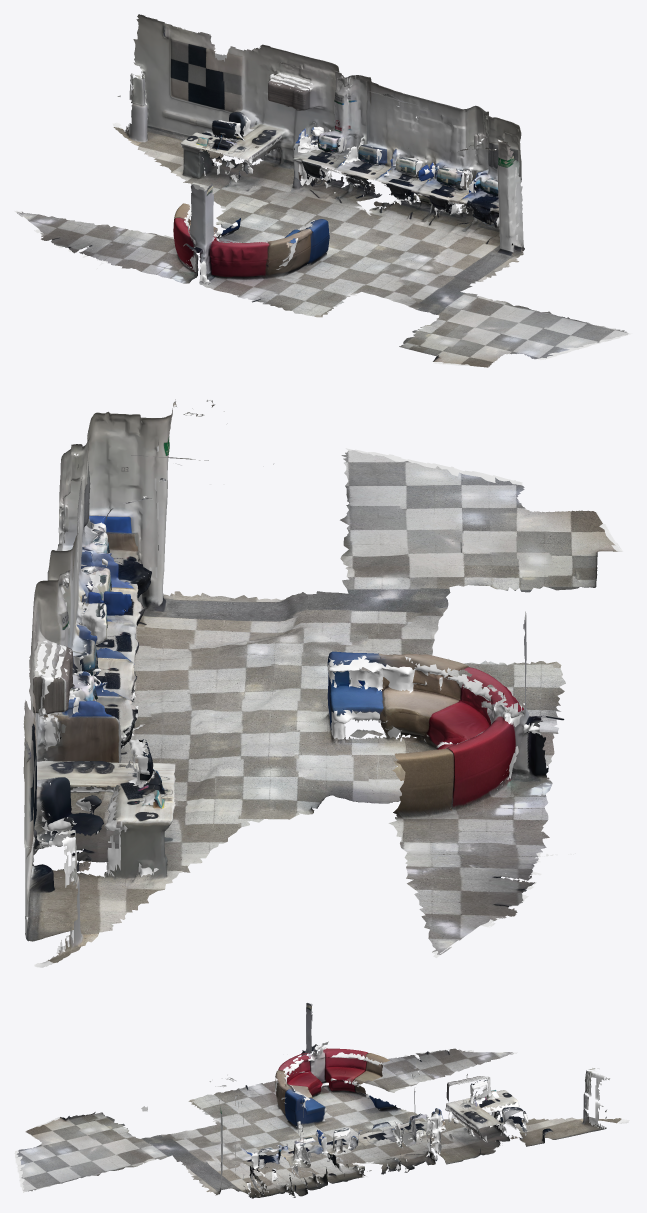
The picture shows the model from 3 angles, top to bottom: view 1: azimuth 30°, elevation 25°; view 2: azimuth 150°, elevation 25°; view 3: azimuth 270°, elevation 25°; orthographic projection. The views are drawn at different scales.
Visible parts, largest first — view 1: 7, 9, 5, 1, 2, 0, 6, 10, 3, 4, 8; view 2: 9, 7, 1, 6, 10, 3, 4, 0, 2, 5, 8; view 3: 9, 1, 4, 7, 6, 10, 5, 2, 0, 8, 3.
Part boxes in pixels (bbox=[...]): 7: bbox=[17, 14, 281, 261]; 9: bbox=[203, 150, 468, 311]; 5: bbox=[280, 75, 495, 254]; 1: bbox=[333, 108, 628, 359]; 2: bbox=[122, 60, 358, 283]; 0: bbox=[200, 44, 341, 191]; 6: bbox=[108, 119, 349, 284]; 10: bbox=[399, 280, 572, 367]; 3: bbox=[401, 103, 524, 250]; 4: bbox=[14, 34, 632, 367]; 8: bbox=[166, 237, 423, 317]; 9: bbox=[77, 575, 560, 819]; 7: bbox=[23, 694, 538, 962]; 1: bbox=[58, 400, 524, 702]; 6: bbox=[36, 675, 548, 867]; 10: bbox=[285, 498, 617, 621]; 3: bbox=[57, 399, 290, 629]; 4: bbox=[25, 399, 622, 967]; 0: bbox=[29, 572, 175, 873]; 2: bbox=[32, 603, 552, 851]; 5: bbox=[42, 444, 219, 761]; 8: bbox=[402, 606, 565, 817]; 9: bbox=[140, 1065, 454, 1188]; 1: bbox=[16, 1072, 411, 1197]; 4: bbox=[14, 1041, 629, 1197]; 7: bbox=[319, 1048, 621, 1153]; 6: bbox=[286, 1044, 498, 1169]; 10: bbox=[25, 1112, 190, 1179]; 5: bbox=[269, 1071, 444, 1196]; 2: bbox=[275, 1003, 522, 1165]; 0: bbox=[397, 1074, 526, 1163]; 8: bbox=[163, 1044, 377, 1138]; 3: bbox=[195, 1094, 327, 1198].
Size of the model in its own units: 8.16 by 2.55 by 13.75.
11 materials, 10 textured.
